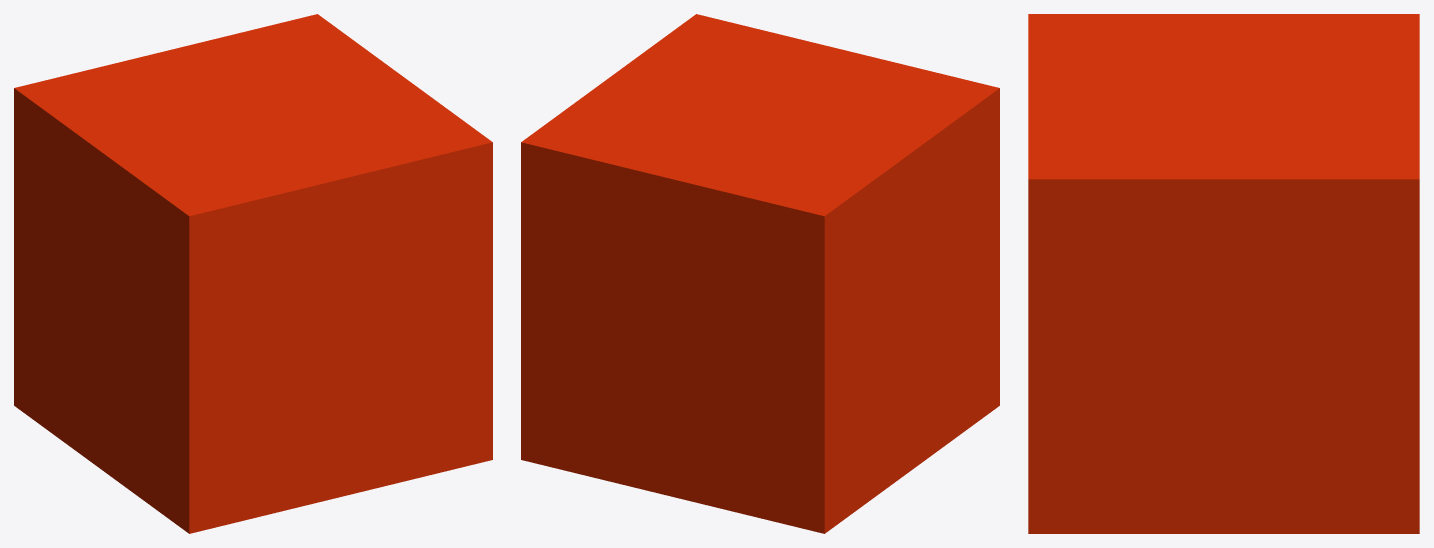
Rendered from Expensive_Cube.fbx.
The picture shows the model from 3 angles, left to right: view 1: azimuth 30°, elevation 25°; view 2: azimuth 150°, elevation 25°; view 3: azimuth 270°, elevation 25°; orthographic projection. The views are drawn at different scales.
Visible parts, largest first — view 1: Expensive_Cube; view 2: Expensive_Cube; view 3: Expensive_Cube.
Part boxes in pixels (x1,y1,x2,y2): Expensive_Cube: (14, 14, 492, 533); Expensive_Cube: (521, 14, 999, 533); Expensive_Cube: (1028, 14, 1419, 533).
Bounding box in the file's own units: 200 × 200 × 200.
